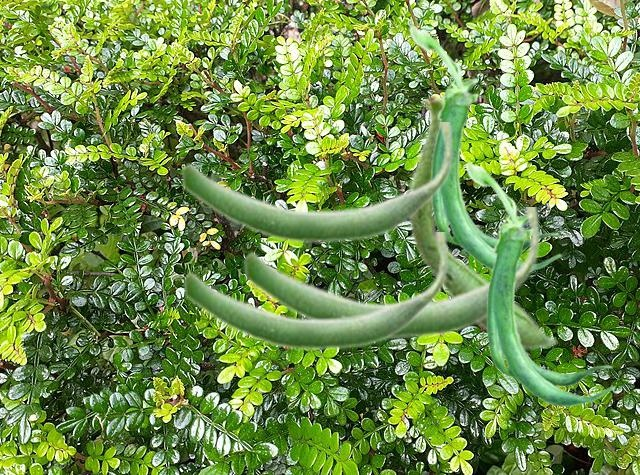french_bean: (242, 207, 540, 340), (407, 91, 557, 350), (408, 25, 561, 273), (464, 161, 614, 406), (180, 122, 453, 244), (182, 232, 448, 351)
